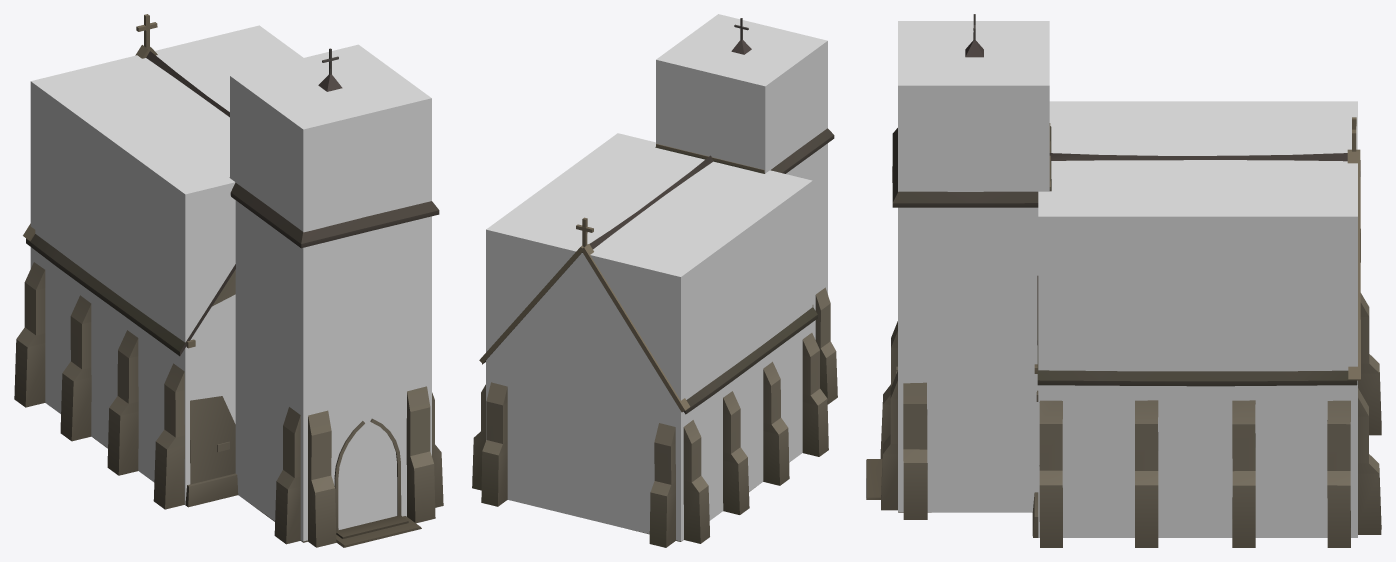
File: chapel.glb
3 renders of one model, left to right at view 1: azimuth 30°, elevation 25°; view 2: azimuth 150°, elevation 25°; view 3: azimuth 270°, elevation 25°, orthographic. The views are drawn at different scales.
Visible parts, largest first — view 1: COL_tower, COL_nave, chapel; view 2: COL_nave, chapel, COL_tower; view 3: COL_nave, COL_tower, chapel.
Part boxes in pixels (bbox=[...]): COL_tower: bbox=[230, 44, 431, 541]; COL_nave: bbox=[30, 25, 303, 504]; chapel: bbox=[14, 14, 443, 547]; COL_nave: bbox=[486, 133, 812, 541]; chapel: bbox=[472, 18, 837, 547]; COL_tower: bbox=[656, 14, 827, 339]; COL_nave: bbox=[1038, 101, 1357, 537]; COL_tower: bbox=[898, 21, 1049, 512]; chapel: bbox=[866, 14, 1381, 547].
Size of the model in its own units: 8.56 by 13.75 by 13.79.
